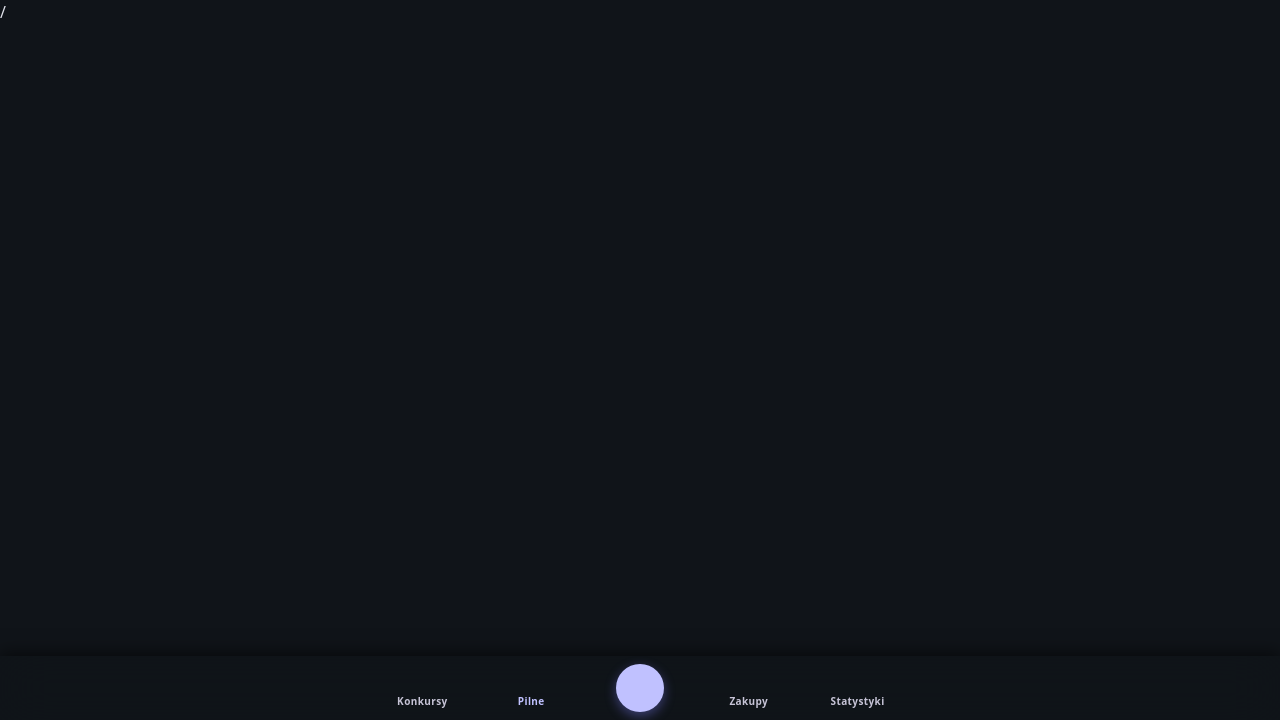
it: BottomNav › new contest goes to /konkursy/nowy
The image size is (1280, 720).
Click the button named "Dodaj konkurs lub zgłoszenie" at (640, 688), box [616,664,664,712]
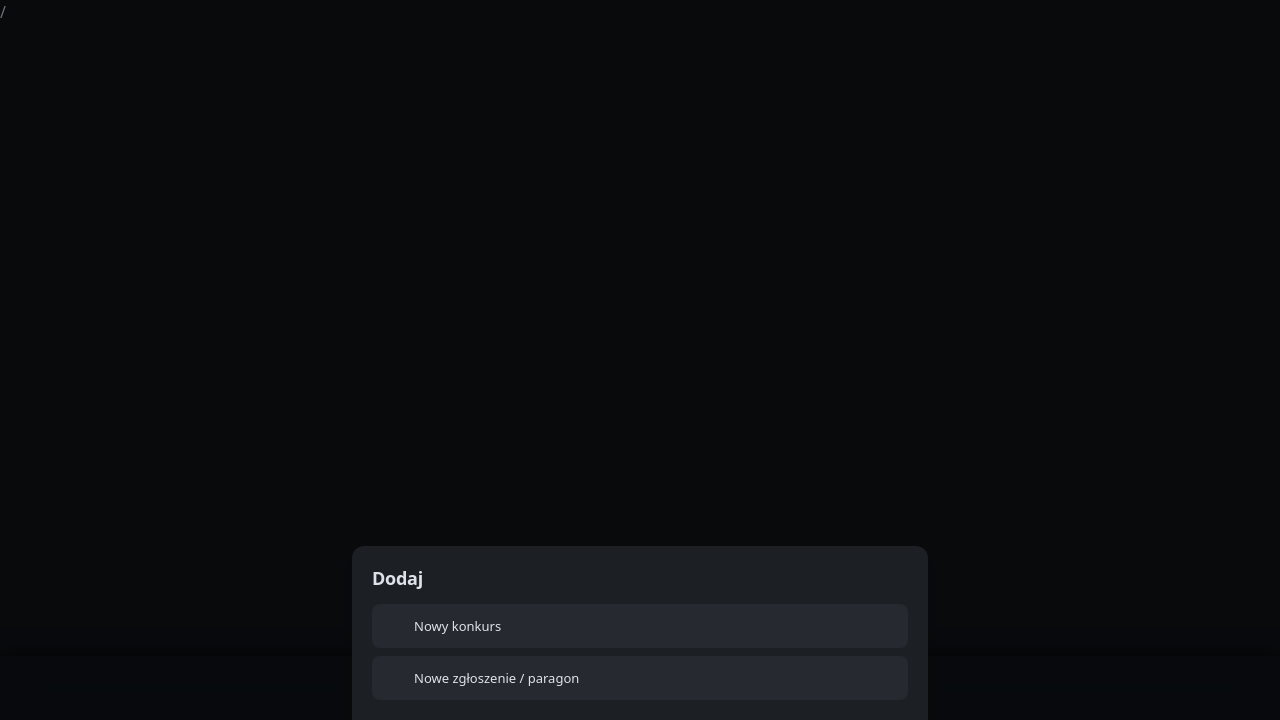
Click the button "Nowy konkurs" at (458, 626), box [372,604,908,648]
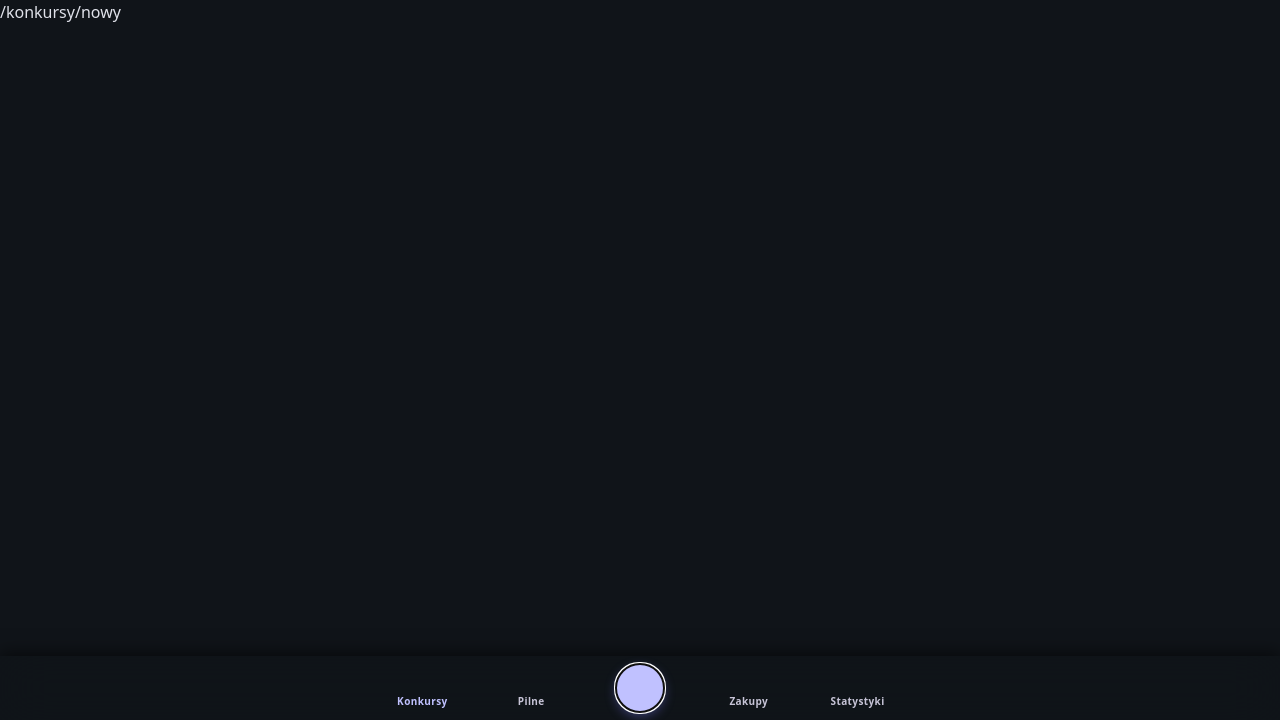
Expected: the text with test id "location" reads "/konkursy/nowy", [0,1,121,23]
